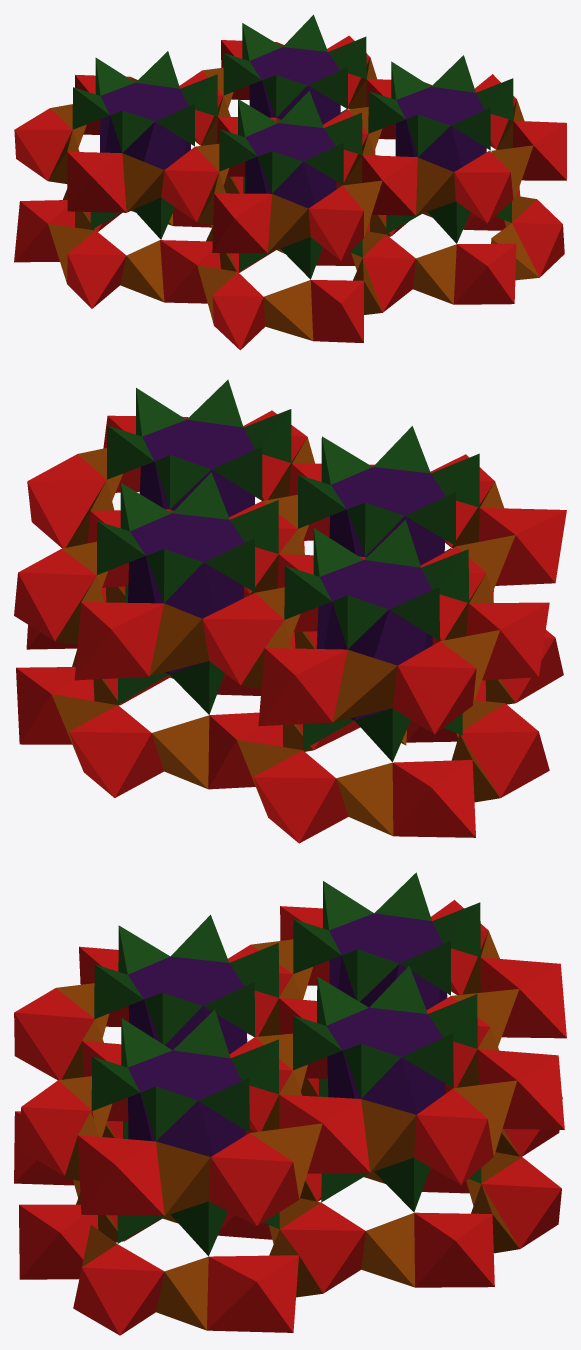
Rendered from Berilo.obj.
The picture shows the model from 3 angles, top to bottom: view 1: azimuth 30°, elevation 25°; view 2: azimuth 150°, elevation 25°; view 3: azimuth 270°, elevation 25°; orthographic projection. The views are drawn at different scales.
Parts seen in each view (by area): view 1: Berilo_Solid.090_Coordenacao6, Berilo_Solid.090_tetraedros, Berilo_Solid.090_Site_M4, Berilo_Solid.090_A_site; view 2: Berilo_Solid.090_Coordenacao6, Berilo_Solid.090_tetraedros, Berilo_Solid.090_Site_M4, Berilo_Solid.090_A_site; view 3: Berilo_Solid.090_Coordenacao6, Berilo_Solid.090_tetraedros, Berilo_Solid.090_Site_M4, Berilo_Solid.090_A_site.
Part boxes in pixels (x1,y1,x2,y2): Berilo_Solid.090_Coordenacao6: (14, 35, 566, 350); Berilo_Solid.090_tetraedros: (72, 14, 513, 279); Berilo_Solid.090_Site_M4: (48, 42, 539, 340); Berilo_Solid.090_A_site: (100, 47, 486, 208); Berilo_Solid.090_Coordenacao6: (14, 410, 566, 843); Berilo_Solid.090_tetraedros: (97, 379, 479, 762); Berilo_Solid.090_Site_M4: (51, 417, 515, 835); Berilo_Solid.090_A_site: (128, 419, 445, 720); Berilo_Solid.090_Coordenacao6: (14, 900, 566, 1335); Berilo_Solid.090_tetraedros: (91, 872, 481, 1256); Berilo_Solid.090_Site_M4: (56, 931, 521, 1330); Berilo_Solid.090_A_site: (128, 913, 447, 1156).
Size of the model in its own units: 1.71 by 0.6717 by 1.48.
